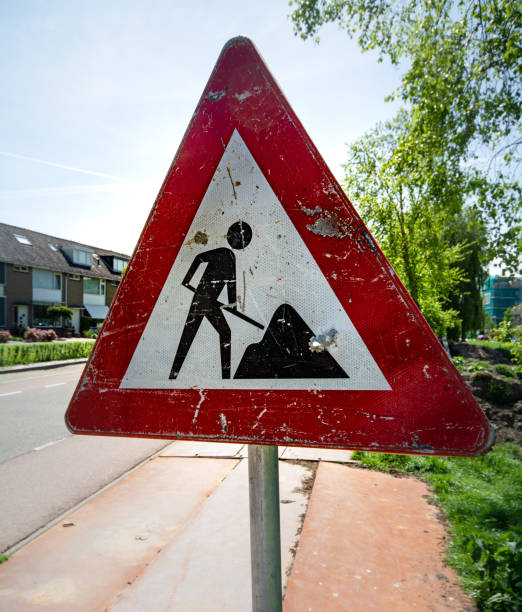yol_calismasi_levha: (62, 34, 490, 459)
